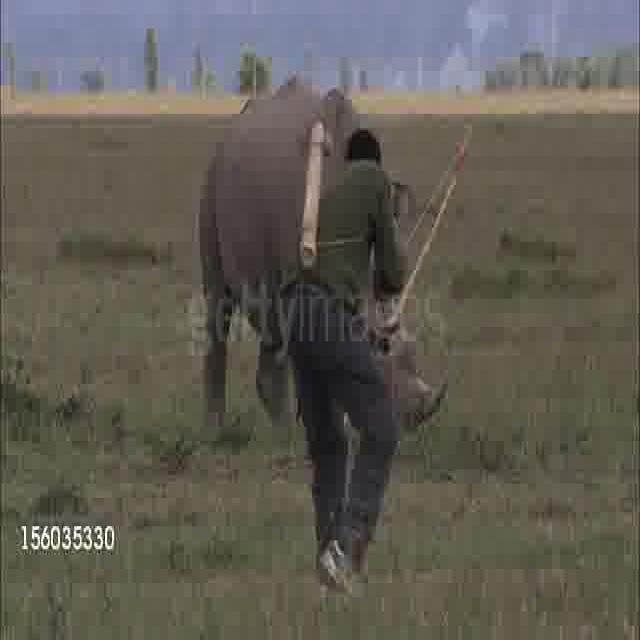poacher: (261, 197, 410, 580)
weapon: (174, 230, 293, 292)
